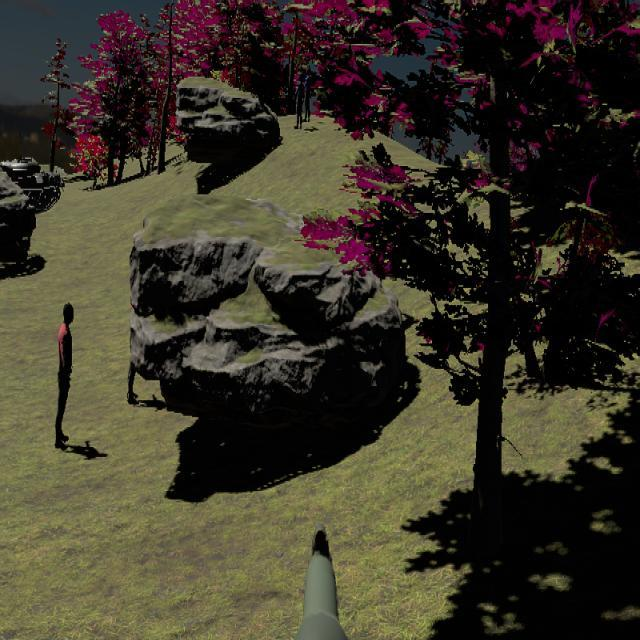Human: (55, 303, 74, 449)
Tank: (0, 153, 64, 214)
